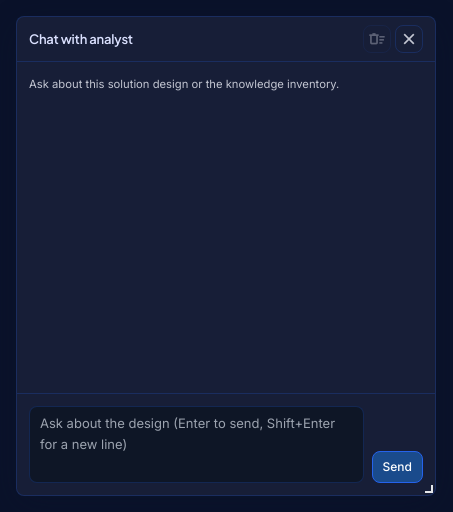
Test: assistant replies render markdown as bold, italic and lists
The width and height of the screenshot is (453, 512).
Replace the text in the text box named "Chat message" with "how to have good secure code?". click: {"x": 196, "y": 444}
box: left=29, top=406, right=364, bottom=483
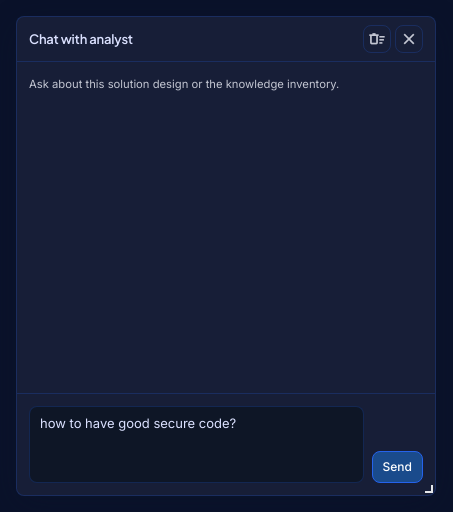
Click the button "Send". click: {"x": 397, "y": 467}
box: left=372, top=451, right=423, bottom=483
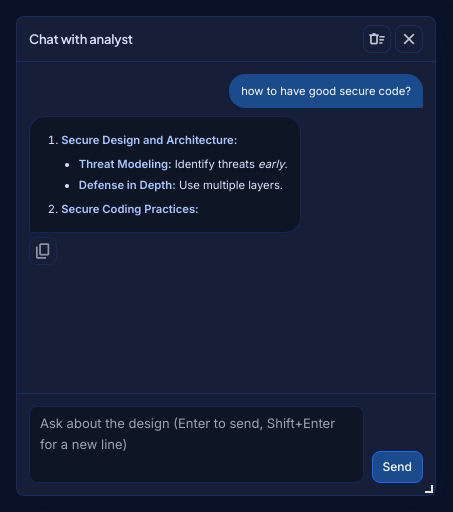
Result: the element with class "chat-md" is shown at left=29, top=116, right=301, bottom=233
Result: the text "early" is shown at left=258, top=157, right=284, bottom=171
